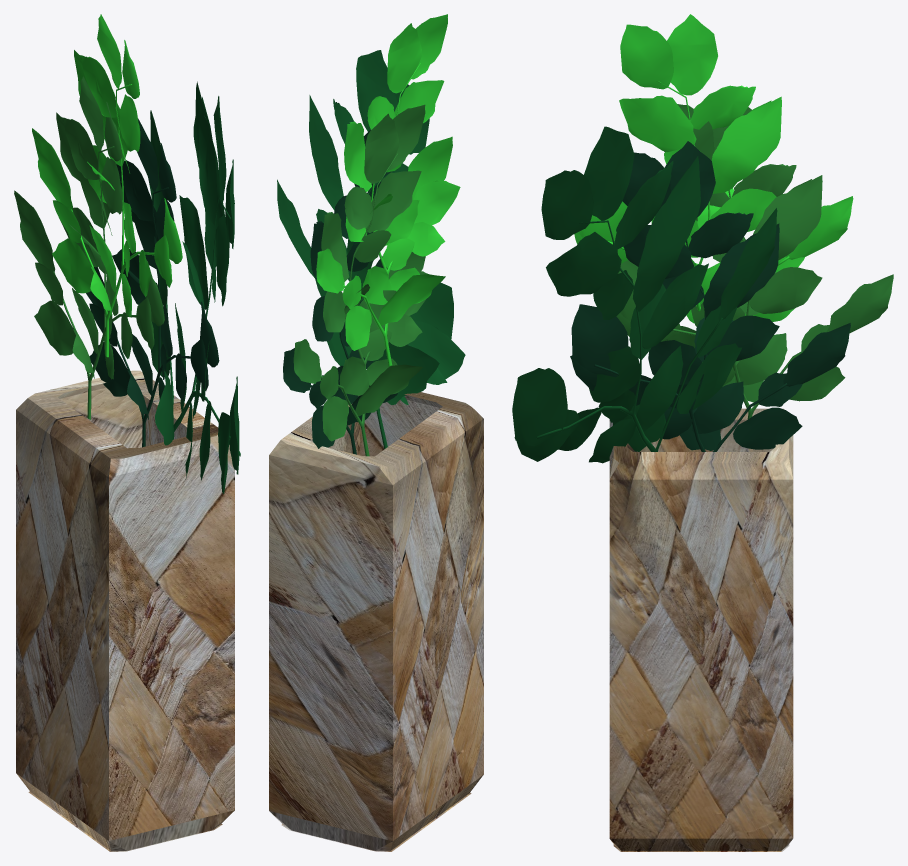
File: Bulmen_vaseHausT.glb
3 views of the same model, side by side, from view 1: azimuth 30°, elevation 25°; view 2: azimuth 150°, elevation 25°; view 3: azimuth 270°, elevation 25° (orthographic). The views are drawn at different scales.
Parts seen in each view (by area): view 1: Cube, twig.003, twig.002, twig.004, twig.001; view 2: Cube, twig.004, twig.003, twig.002, twig.001; view 3: Cube, twig.002, twig.001, twig.004, twig.003.
Part boxes in pixels (left/top/right/bottom): Cube: left=16, top=370, right=234, bottom=851; twig.003: left=14, top=76, right=164, bottom=419; twig.002: left=149, top=81, right=240, bottom=493; twig.004: left=32, top=14, right=182, bottom=357; twig.001: left=86, top=118, right=219, bottom=447; Cube: left=269, top=392, right=483, bottom=851; twig.004: left=316, top=14, right=460, bottom=366; twig.003: left=293, top=104, right=432, bottom=456; twig.002: left=277, top=50, right=465, bottom=449; twig.001: left=283, top=129, right=407, bottom=454; Cube: left=609, top=408, right=793, bottom=851; twig.002: left=512, top=126, right=777, bottom=463; twig.001: left=570, top=141, right=850, bottom=451; twig.004: left=574, top=14, right=853, bottom=323; twig.003: left=616, top=104, right=893, bottom=419.
Size of the model in its own units: 2.33 by 13.35 by 5.8.
Materials: 5 (1 with a texture image).
